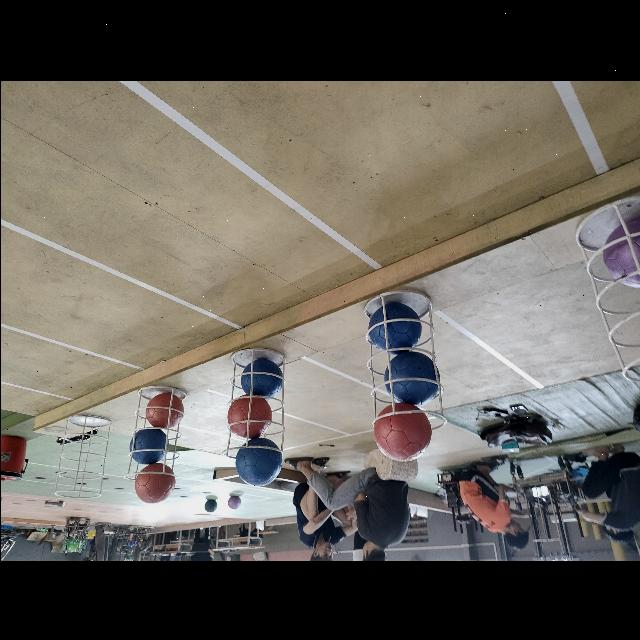B: (384, 350, 438, 406), (368, 302, 420, 352), (234, 437, 282, 485), (240, 356, 280, 399), (128, 426, 168, 464)
R: (372, 403, 430, 459), (226, 394, 270, 438), (133, 462, 175, 502), (144, 390, 182, 428)
